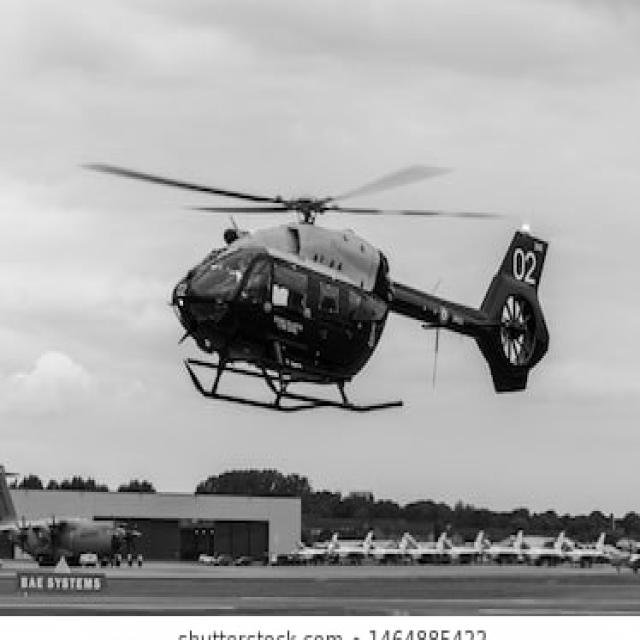helicopter: (81, 156, 566, 414)
